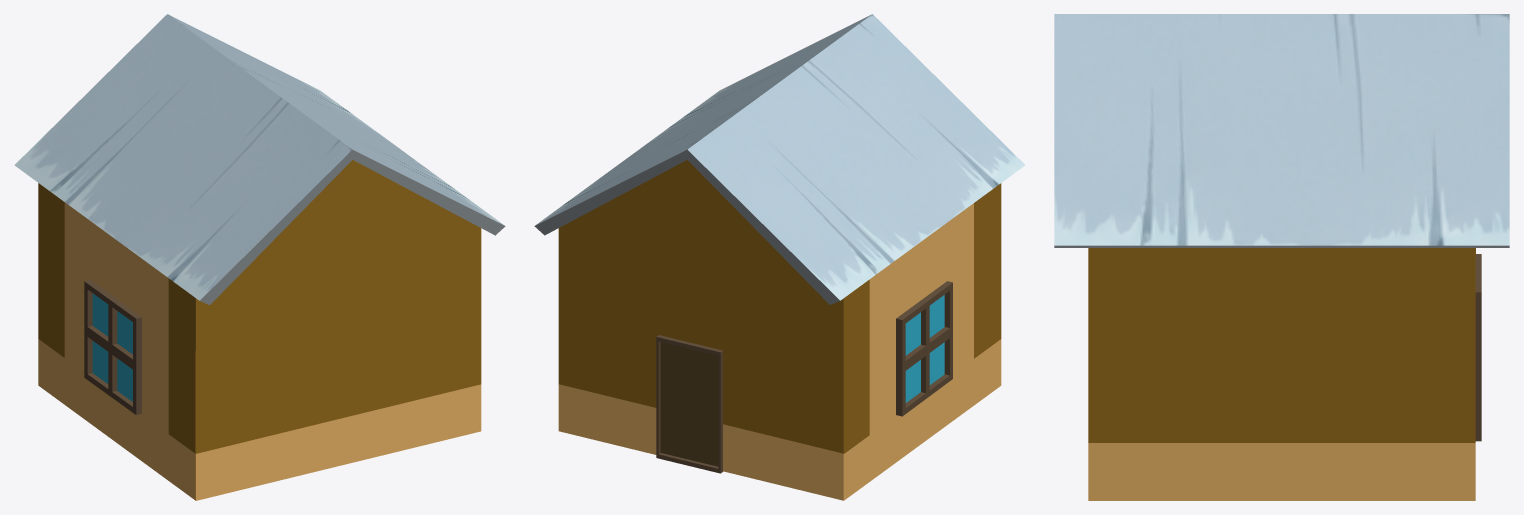
File: CasaColor4.glb
3 views of the same model, side by side, from view 1: azimuth 30°, elevation 25°; view 2: azimuth 150°, elevation 25°; view 3: azimuth 270°, elevation 25° (orthographic). The views are drawn at different scales.
Visible parts, largest first — view 1: estructura.003, techo, estructura.001, ventana; view 2: estructura.003, techo, estructura.001, puerta, ventana; view 3: techo, estructura.003, puerta.
Boxes of the visible parts, x1,y1,x2,y2 form: estructura.003: [195, 160, 481, 500]; techo: [14, 14, 505, 304]; estructura.001: [38, 183, 195, 500]; ventana: [84, 280, 141, 414]; estructura.003: [558, 160, 843, 500]; techo: [534, 14, 1025, 304]; estructura.001: [843, 183, 1001, 500]; puerta: [656, 335, 723, 473]; ventana: [896, 281, 952, 416]; techo: [1054, 14, 1509, 247]; estructura.003: [1088, 248, 1475, 500]; puerta: [1475, 254, 1481, 441].
Size of the model in its own units: 4.92 by 5.02 by 5.16.
Materials: 9 (1 with a texture image).
